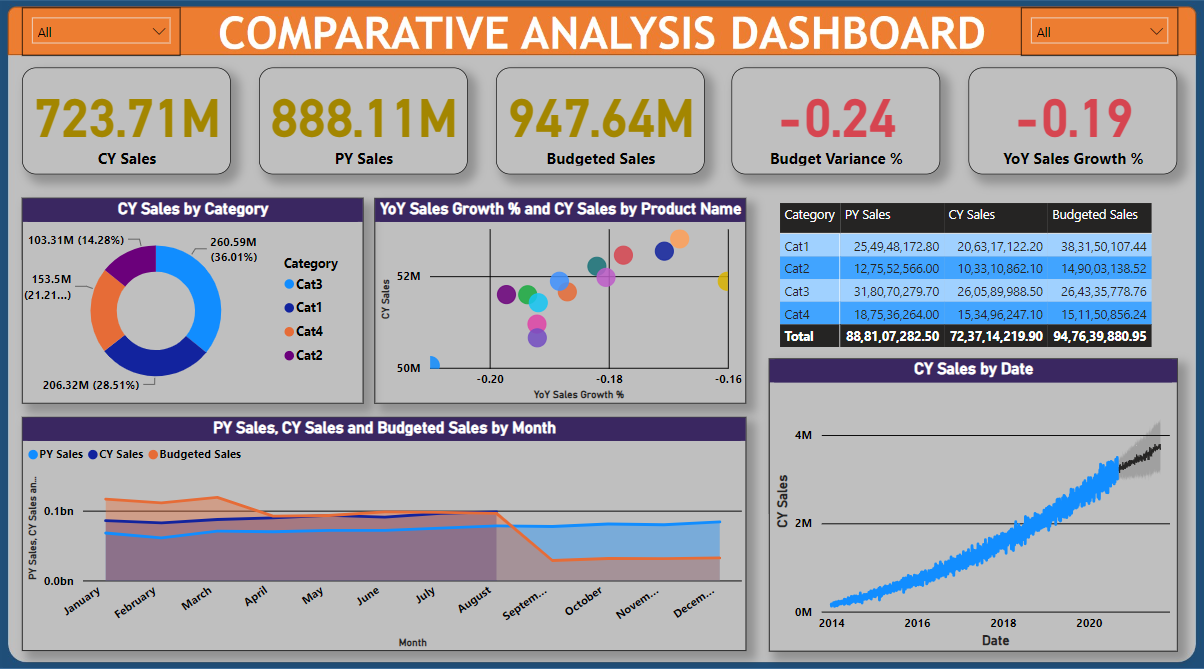

The dashboard page shown, as its layout file describes it:
{"tool":"powerbi","page":{"name":"Page 1","canvas":[1280,720],"ordinal":0},"visuals":[{"type":"card","fields":{"Values":["Date Dim.CY Sales"]},"box":[25.8,80.6,221.1,113.4],"z":0},{"type":"card","fields":{"Values":["Date Dim.PY Sales"]},"box":[276.7,80.6,221.1,113.4],"z":1000},{"type":"card","fields":{"Values":["Date Dim.Budgeted Sales"]},"box":[527.6,80.6,221.1,113.4],"z":2000},{"type":"card","fields":{"Values":["Date Dim.Budget Variance %"]},"box":[778.4,80.6,221.1,113.4],"z":3000},{"type":"card","fields":{"Values":["Date Dim.YoY Sales Growth %"]},"box":[1029.3,80.6,221.1,113.4],"z":4000},{"type":"slicer","fields":{"Values":["Date Dim.Year"]},"box":[25.7,18.2,168.1,51.5],"z":5000},{"type":"slicer","fields":{"Values":["Date Dim.Qtr"]},"box":[1084.2,18.2,166.6,51.5],"z":6000},{"type":"donutChart","fields":{"Category":["Product Master.Category"],"Y":["Date Dim.CY Sales"]},"box":[25.7,219.6,361.9,218],"z":7000},{"type":"scatterChart","fields":{"Y":["Date Dim.CY Sales"],"X":["Date Dim.YoY Sales Growth %"],"Series":["Product Master.Product Name"]},"box":[399.8,219.6,393.7,218],"z":8000},{"type":"pivotTable","fields":{"Rows":["Product Master.Category"],"Values":["Date Dim.PY Sales","Date Dim.CY Sales","Date Dim.Budgeted Sales"]},"box":[823.7,219.6,445.2,218],"z":9000},{"type":"lineChart","fields":{"Y":["Date Dim.CY Sales"],"Category":["Date Dim.Date"]},"box":[817.7,389.2,433.1,310.4],"z":10000},{"type":"areaChart","fields":{"Category":["Date Dim.Date.Variation.Date Hierarchy.Month"],"Y":["Date Dim.PY Sales","Date Dim.CY Sales","Date Dim.Budgeted Sales"]},"box":[25.7,451.2,767.7,248.3],"z":10001}]}

Visuals, with their boxes in screenshot pixels (x1, y1, x2, y2), scaled from the page's 1280x720 canvas onto the 1204x669 screenshot:
card - Date Dim.CY Sales: rect(24, 75, 232, 180)
card - Date Dim.PY Sales: rect(260, 75, 468, 180)
card - Date Dim.Budgeted Sales: rect(496, 75, 704, 180)
card - Date Dim.Budget Variance %: rect(732, 75, 940, 180)
card - Date Dim.YoY Sales Growth %: rect(968, 75, 1176, 180)
slicer - Date Dim.Year: rect(24, 17, 182, 65)
slicer - Date Dim.Qtr: rect(1020, 17, 1177, 65)
donutChart - Product Master.Category x Date Dim.CY Sales: rect(24, 204, 365, 407)
scatterChart - Date Dim.CY Sales x Date Dim.YoY Sales Growth %: rect(376, 204, 746, 407)
pivotTable - Product Master.Category x Date Dim.PY Sales: rect(775, 204, 1194, 407)
lineChart - Date Dim.CY Sales x Date Dim.Date: rect(769, 362, 1177, 650)
areaChart - Date Dim.Date.Variation.Date Hierarchy.Month x Date Dim.PY Sales: rect(24, 419, 746, 650)
